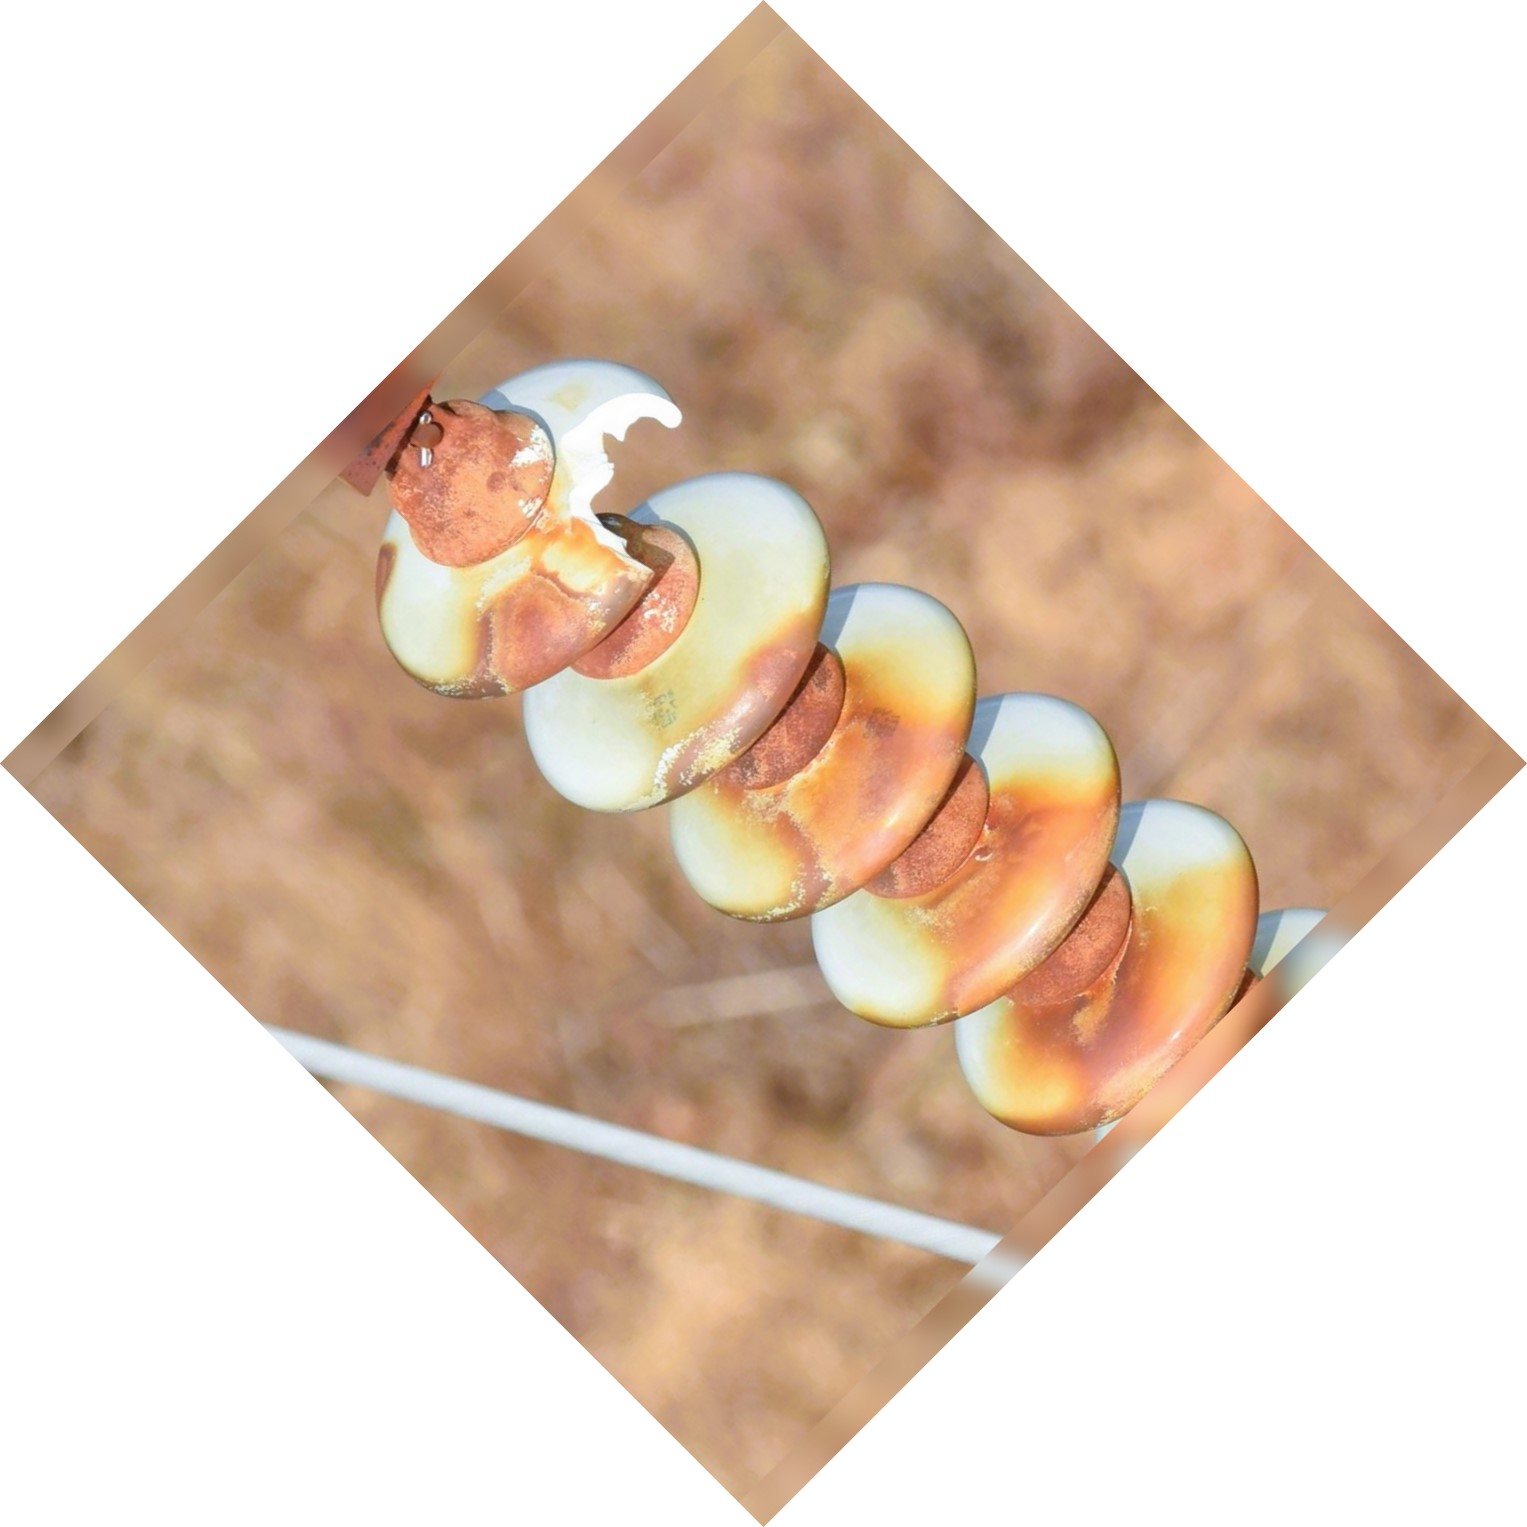insulator breakage: (359, 351, 689, 708)
